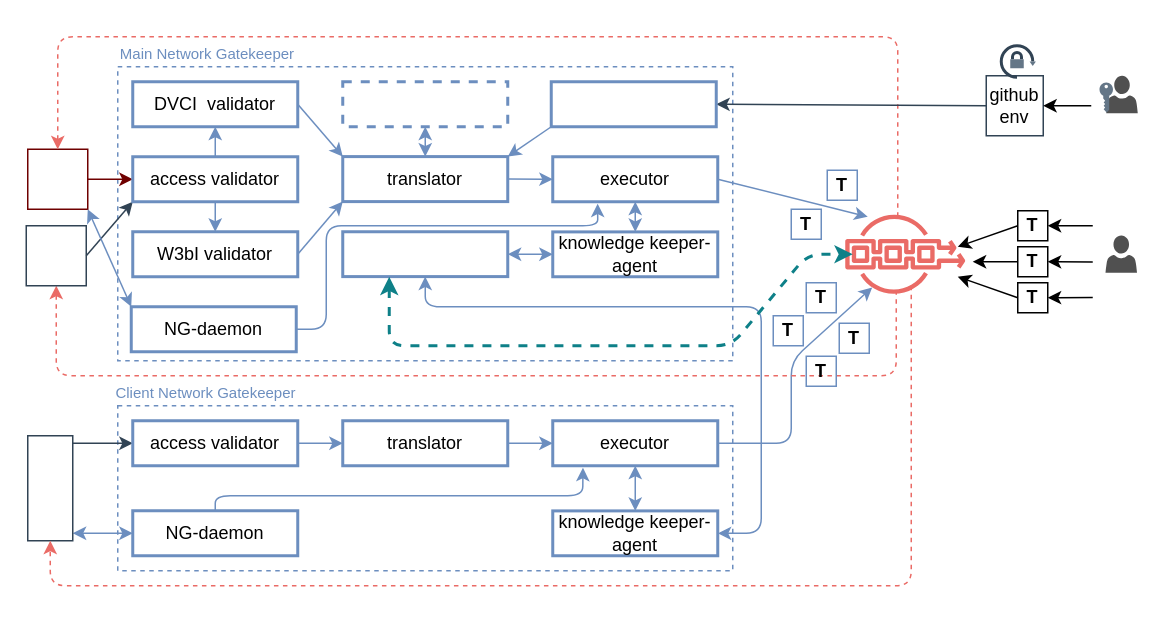
Image size: 1164x624. Some labels were removed from this diagram. Here are the shapes that lost their labels. From the top down, the centre of each, then its label:
point 424,104: reference libraries
point 633,104: deployment validator
point 57,178: OpSt Node
point 55,255: W3bI
point 424,253: knowledge keeper
point 49,487: D R N
